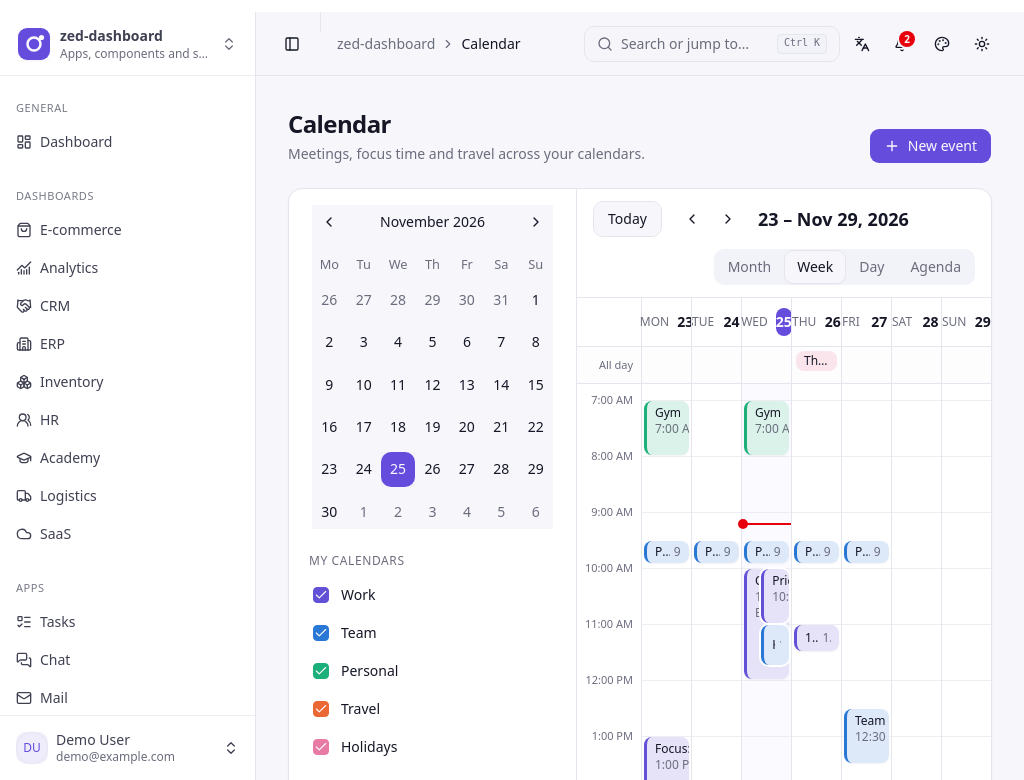
it: Calendar app › switches to the agenda view
This screenshot has width=1024, height=780.
(page scrolled)
Click the radio button labelled "Agenda".
click(936, 267)  # box [898,251,973,283]
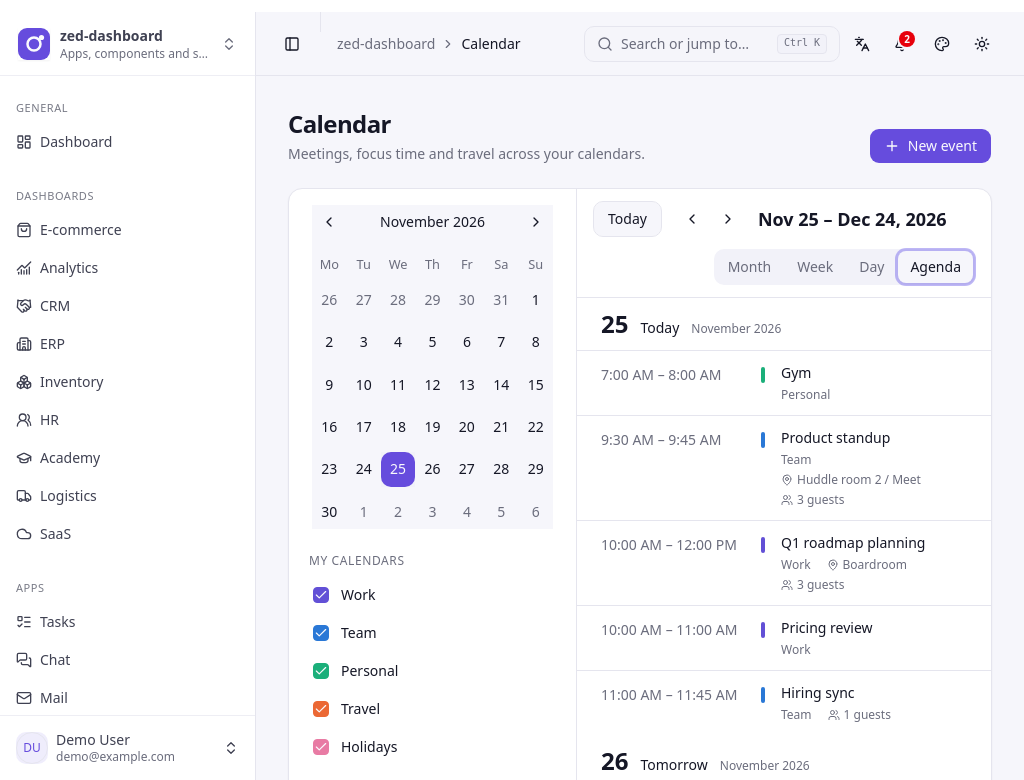
Expected: the text "Today" is shown, [640,318,679,338]
